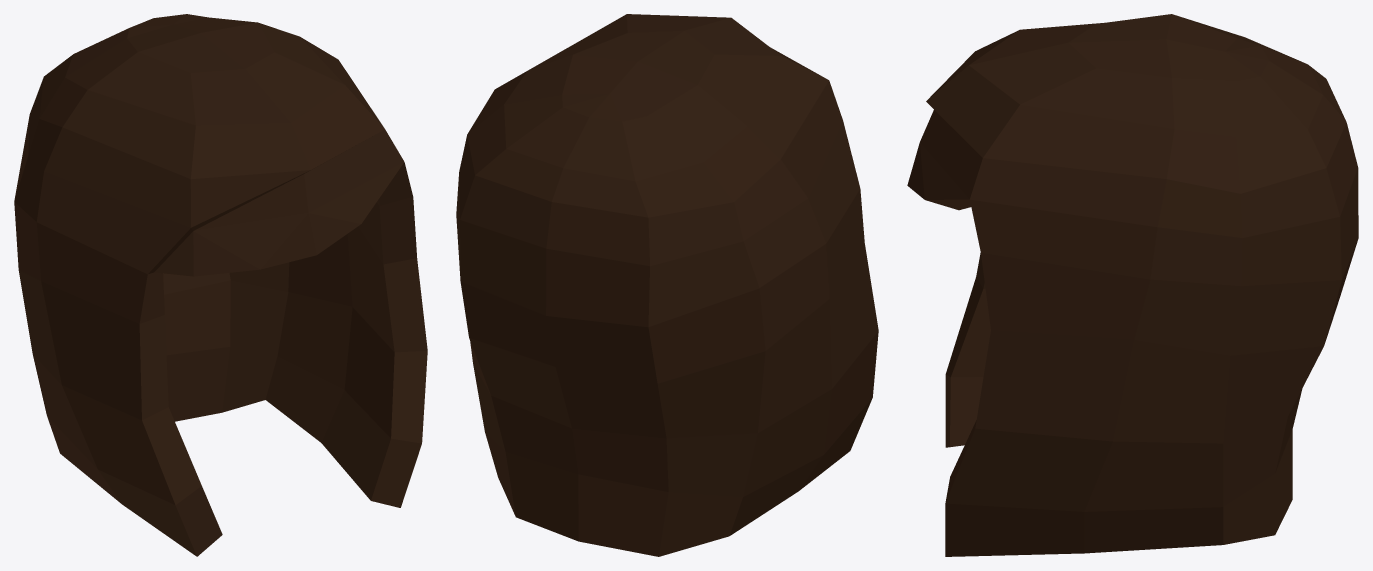
The model's file is female_hairstyle_1.glb.
3 renders of one model, left to right at view 1: azimuth 30°, elevation 25°; view 2: azimuth 150°, elevation 25°; view 3: azimuth 270°, elevation 25°, orthographic. The views are drawn at different scales.
Parts seen in each view (by area): view 1: Female_Hairstyle_1; view 2: Female_Hairstyle_1; view 3: Female_Hairstyle_1.
Boxes of the visible parts, left/top/right/bottom form: Female_Hairstyle_1: left=14, top=14, right=427, bottom=556; Female_Hairstyle_1: left=456, top=14, right=878, bottom=556; Female_Hairstyle_1: left=907, top=14, right=1358, bottom=556.
Bounding box in the file's own units: 1.52 × 1.85 × 1.63.
